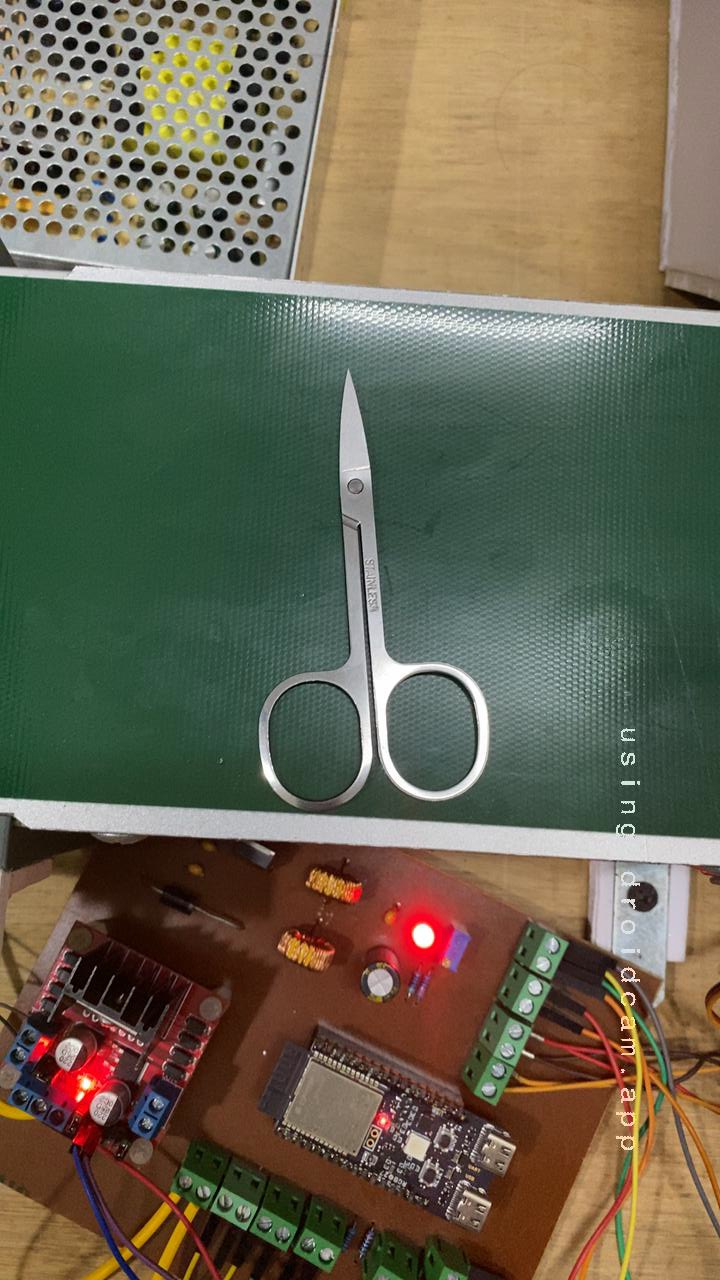scissor: (192, 363, 528, 820)
